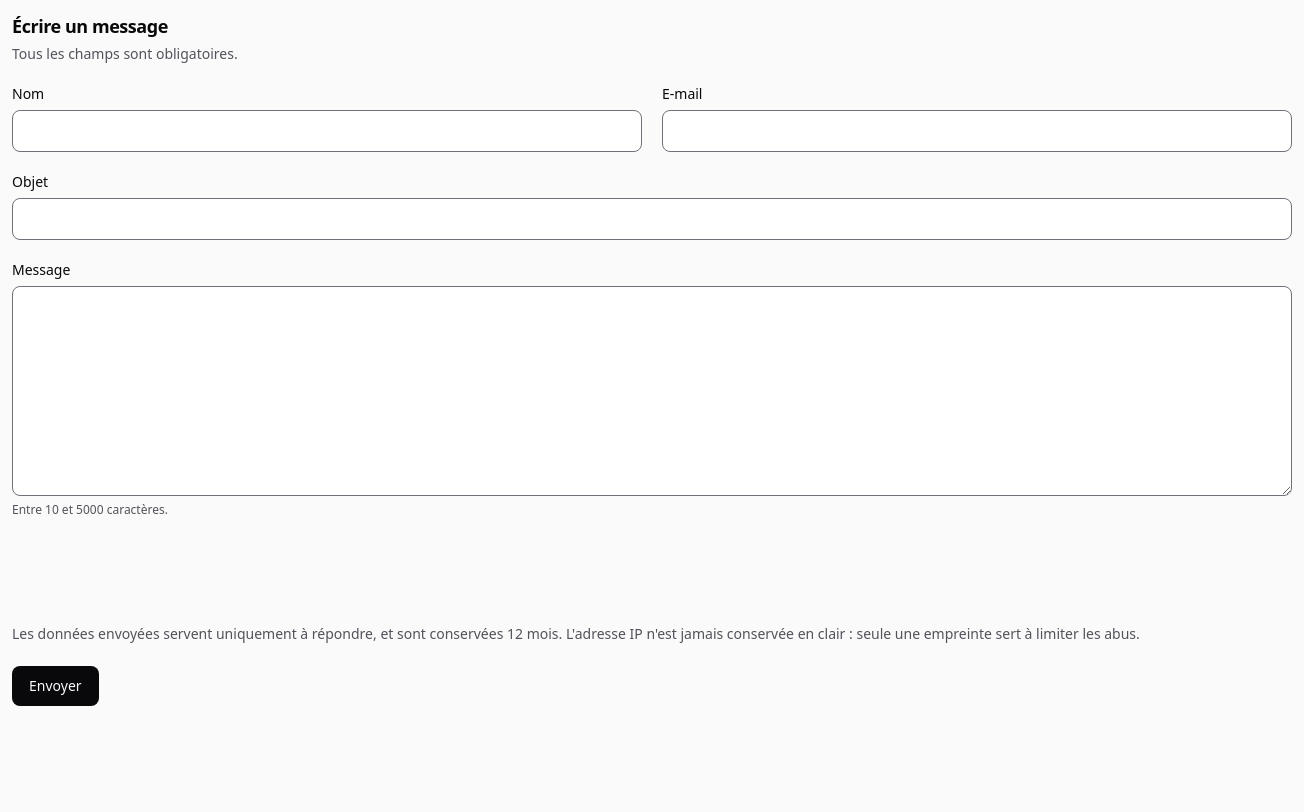
Test: ContactForm › points out each invalid field, keeps what was typed and focuses the first
This screenshot has width=1304, height=812.
In the field labelled "Nom": {"x": 327, "y": 131} [12,110,642,152], type "Ada"
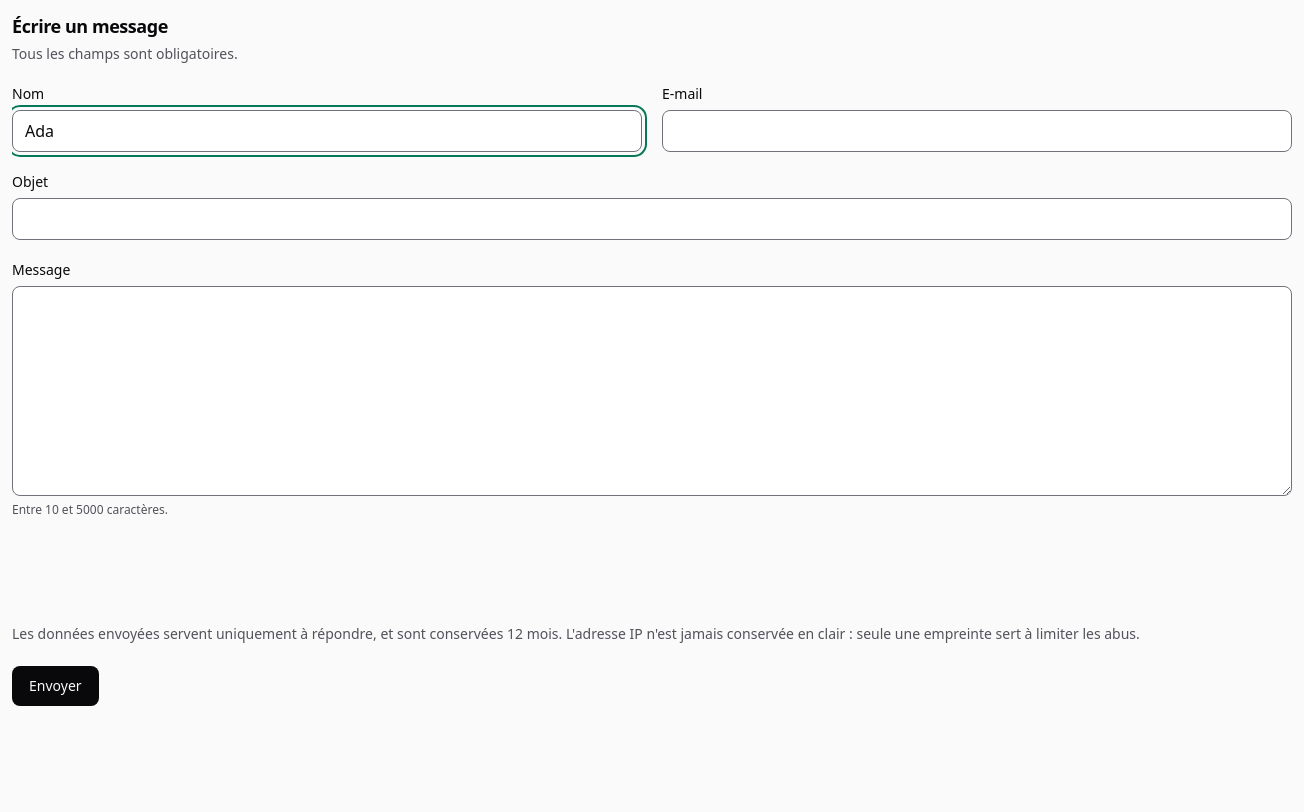
In the field labelled "E-mail": {"x": 977, "y": 131} [662,110,1292,152], type "ada@example.com"
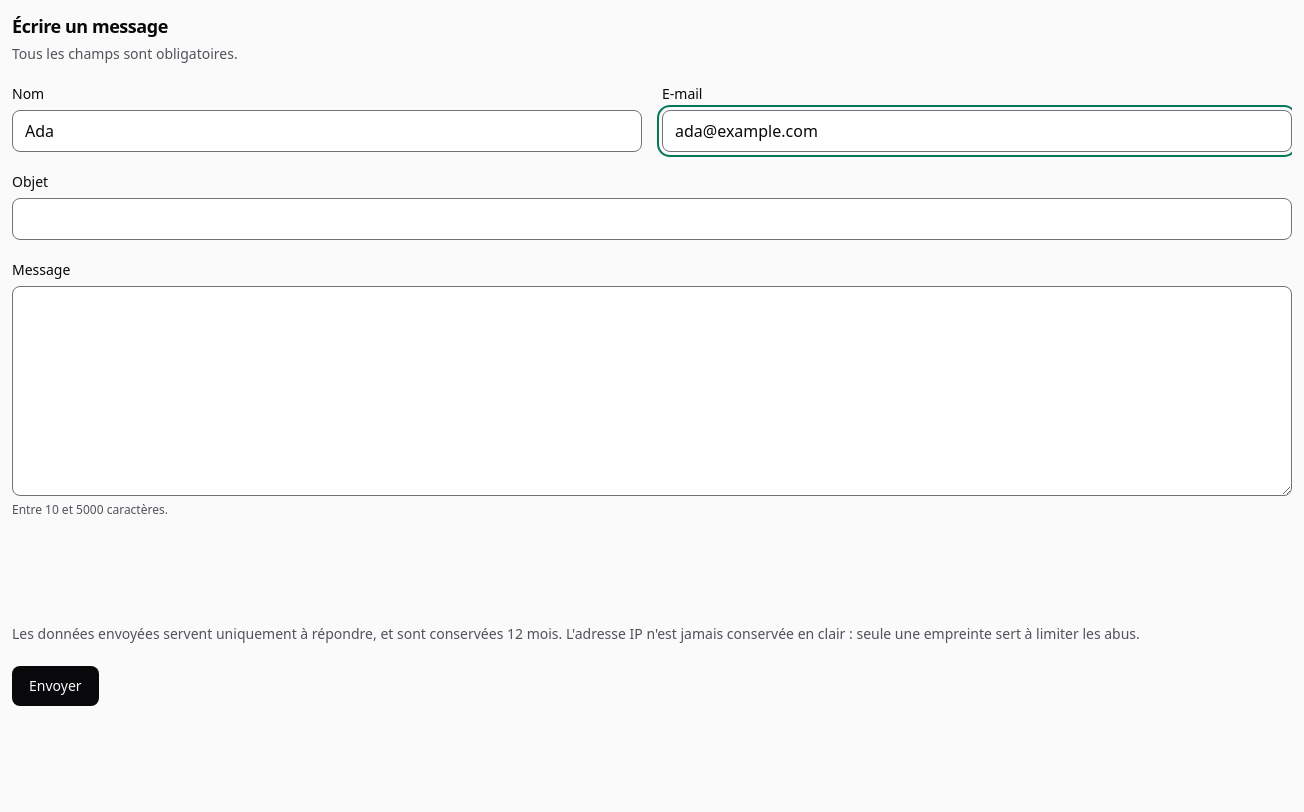
In the field labelled "Objet": {"x": 652, "y": 219} [12,198,1292,240], type "Une mission"
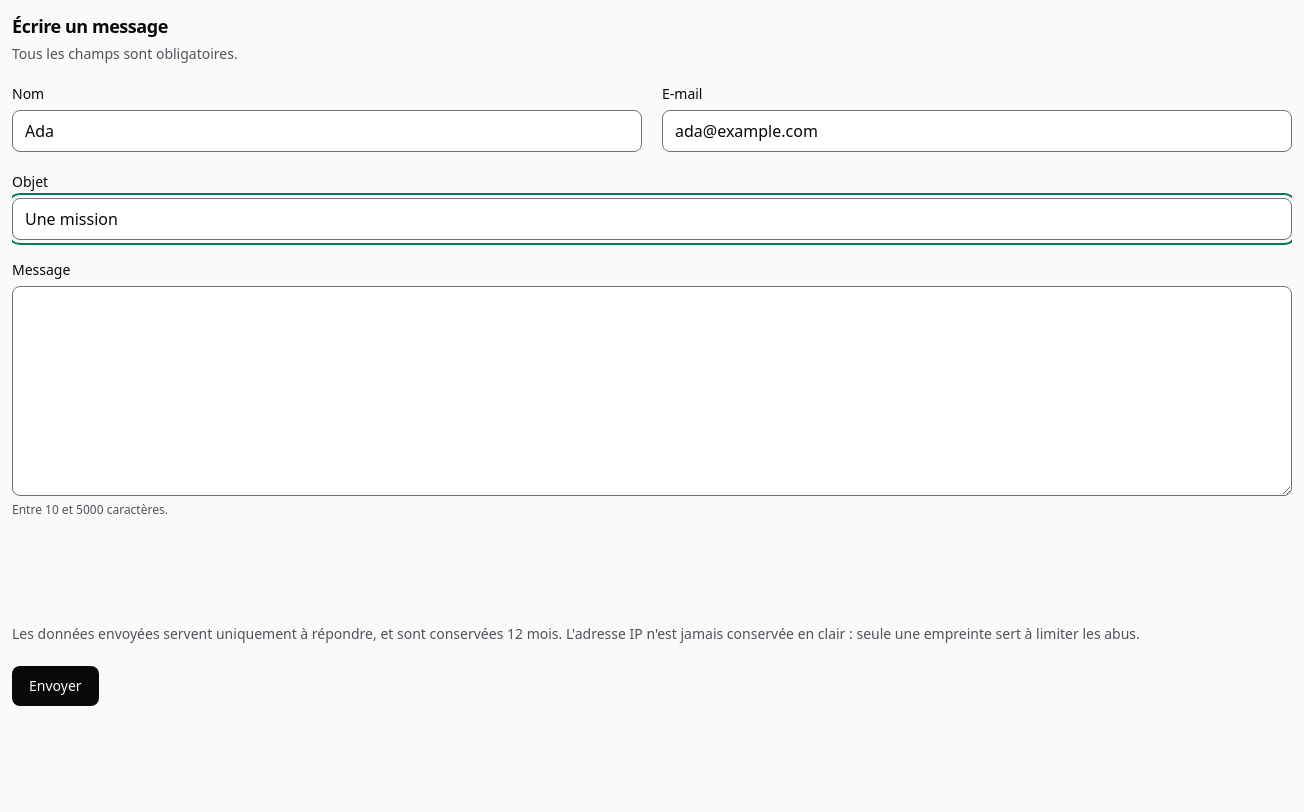
In the text box labelled "Message": {"x": 652, "y": 391} [12,286,1292,496], type "Bonjour, j'ai un projet."
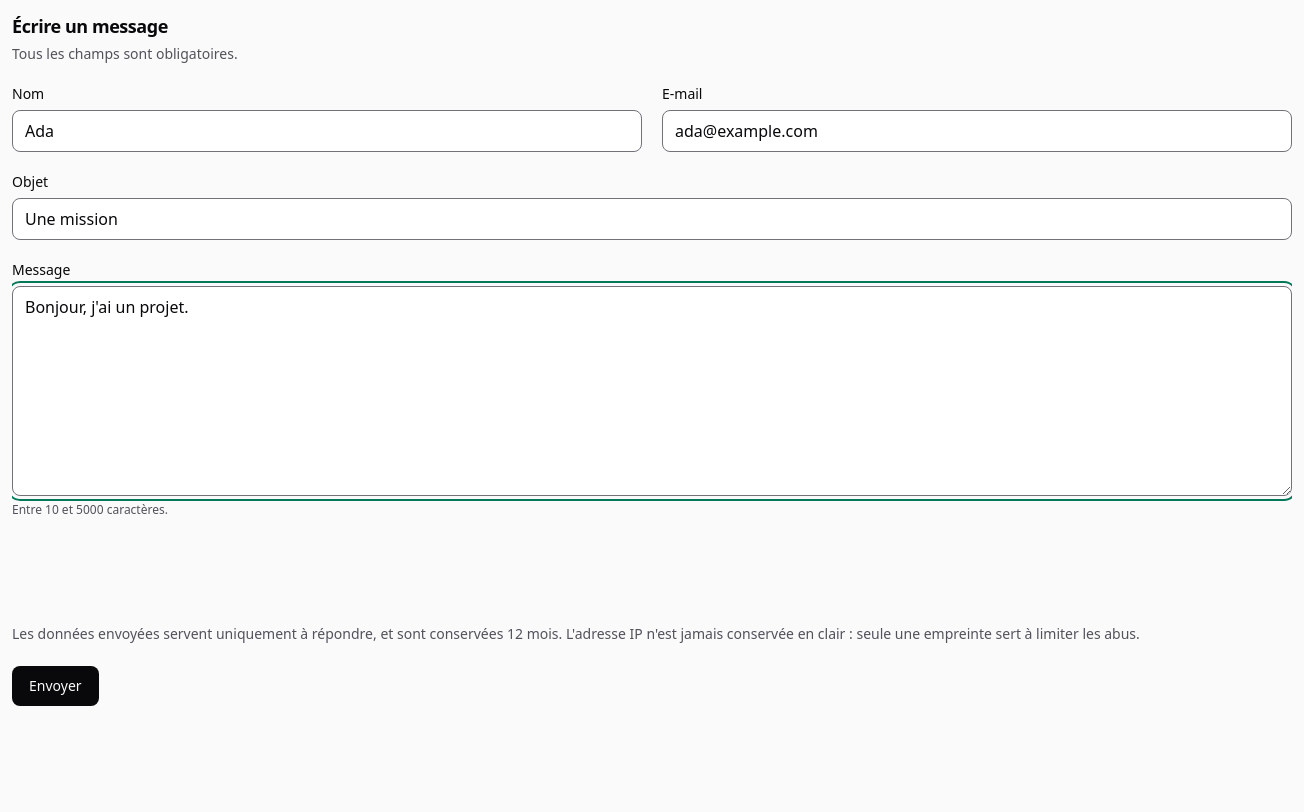
Click the button "Envoyer": {"x": 55, "y": 686} [12,666,99,706]
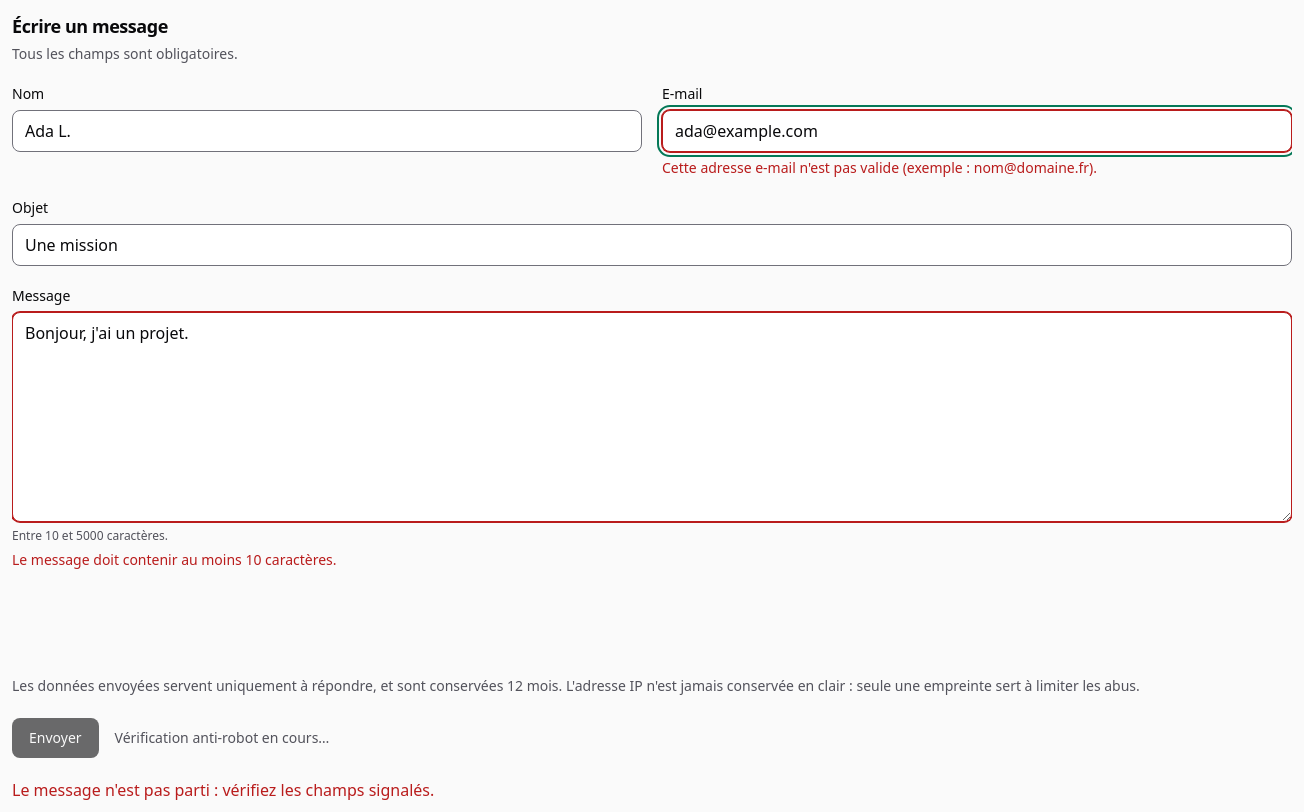
Check: the message shows "Le message n'est pas parti", box [12,779,434,801]
Check: the field labelled "Nom" holds "Ada L.", box [12,110,642,152]
